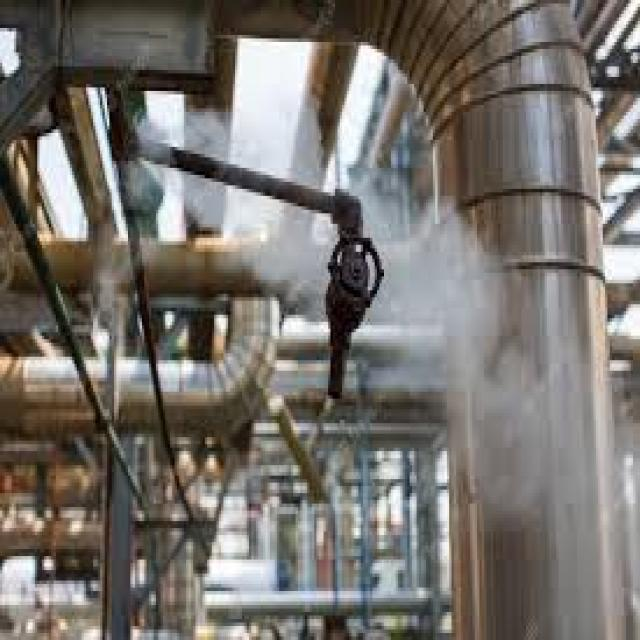corrosion: (295, 183, 481, 428), (101, 83, 220, 253)
